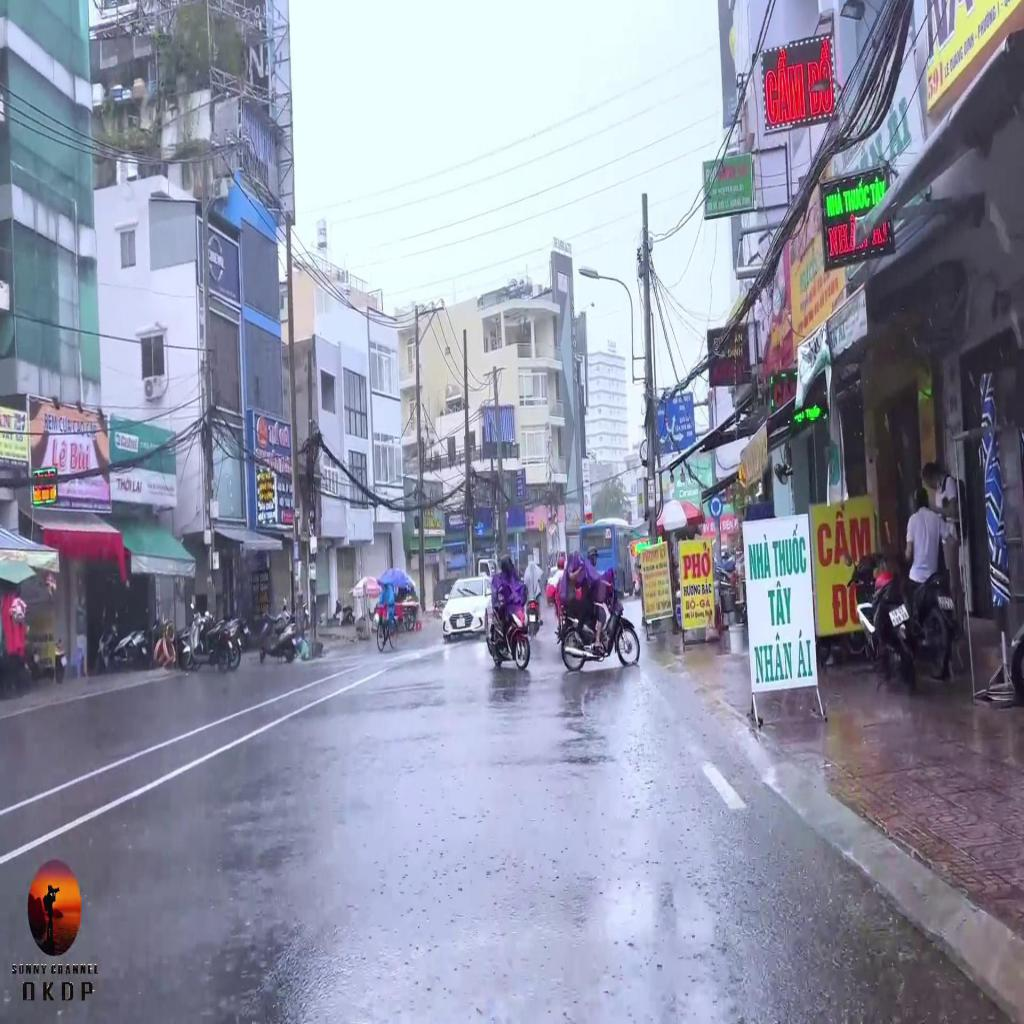noi_giao_nhau_chay_theo_vong: (708, 493, 723, 520)
